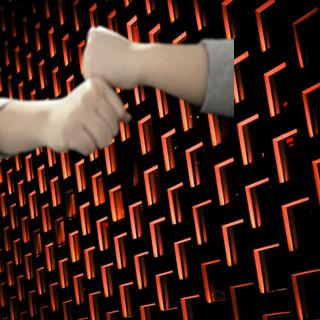CAREFUL: (10, 27, 215, 154)
